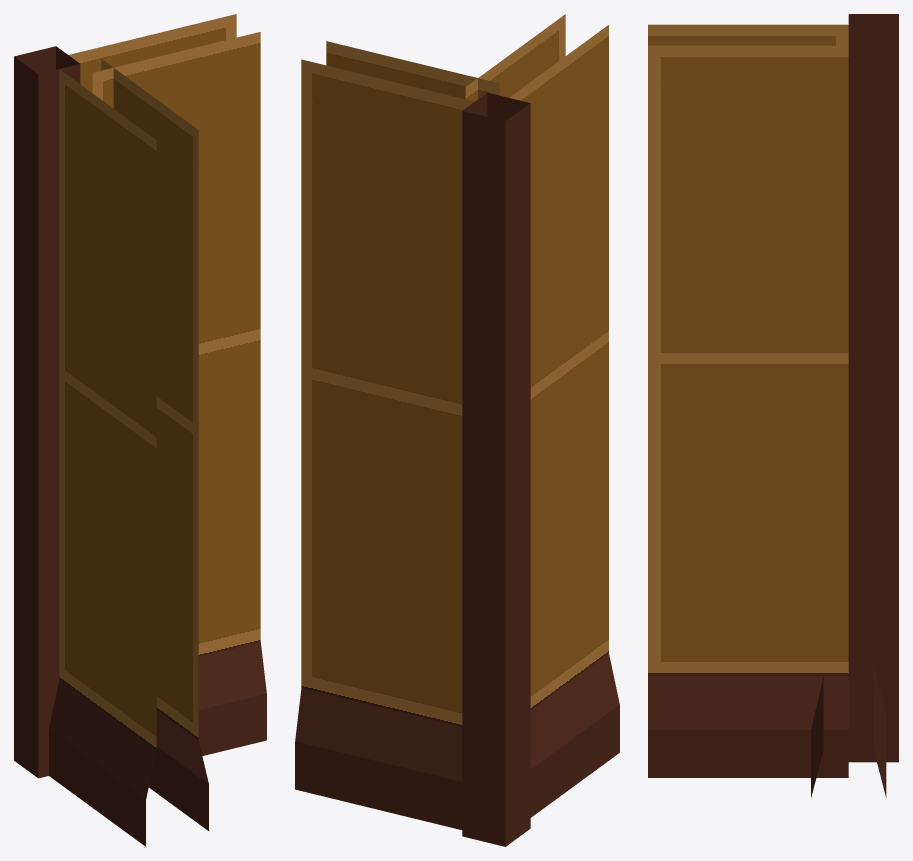
Rendered from BuildWall3.gltf.
3 renders of one model, left to right at view 1: azimuth 30°, elevation 25°; view 2: azimuth 150°, elevation 25°; view 3: azimuth 270°, elevation 25°, orthographic. The views are drawn at different scales.
Visible parts, largest first — view 1: cuboid; view 2: cuboid; view 3: cuboid.
Boxes of the visible parts, x1,y1,x2,y2 form: cuboid: (14,14,266,846); cuboid: (295,14,619,846); cuboid: (648,14,898,797).
Size of the model in its own units: 1.25 by 4 by 1.25.
Materials: 1 (1 with a texture image).
